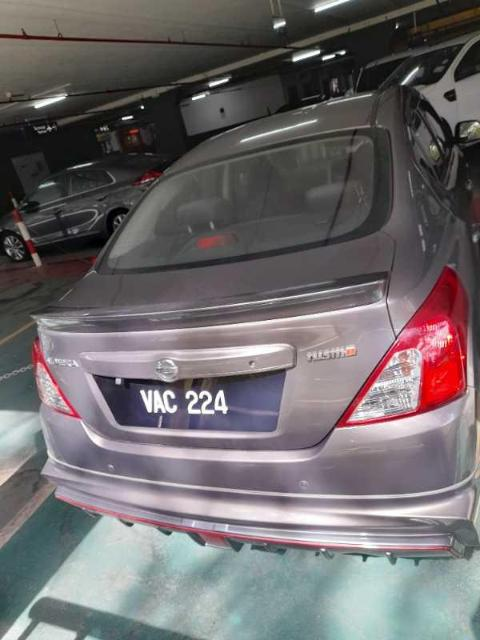License_Plate: (92, 370, 289, 434)
car: (31, 85, 480, 565)
